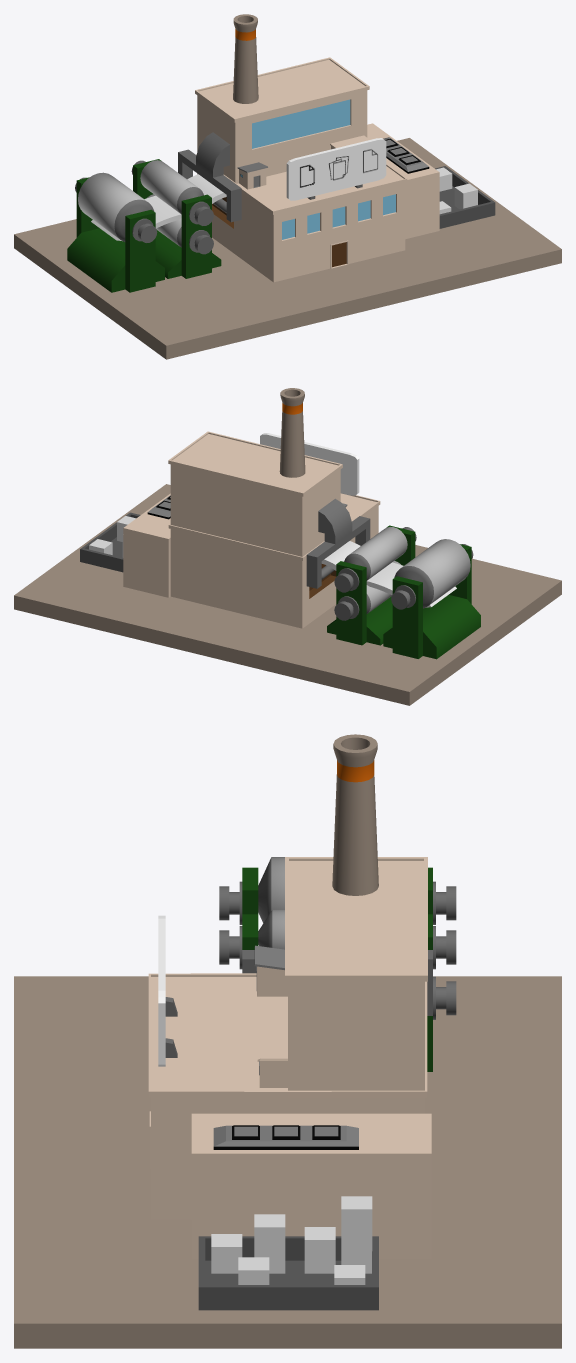
The model's file is Printing Press.fbx.
3 renders of one model, top to bottom at view 1: azimuth 30°, elevation 25°; view 2: azimuth 150°, elevation 25°; view 3: azimuth 270°, elevation 25°, orthographic. The views are drawn at different scales.
Parts seen in each view (by area): view 1: base.009, main building.007, P machine a, P machine b, sigh, holsr outside, chimney.002, papper place, big papper, papper, air vent, exit.001; view 2: main building.007, base.009, P machine a, P machine b, holsr outside, chimney.002, sigh, big papper, papper place, papper; view 3: base.009, main building.007, papper place, papper, chimney.002, P machine b, P machine a, air vent, air pump, exit.001, sigh.
Part boxes in pixels (<box>): base.009: <box>14,138,561,359</box>; main building.007: <box>195,57,439,282</box>; P machine a: <box>67,172,164,292</box>; P machine b: <box>131,159,221,278</box>; sigh: <box>286,138,386,200</box>; holsr outside: <box>178,132,241,222</box>; chimney.002: <box>233,14,258,103</box>; papper place: <box>435,166,495,228</box>; big papper: <box>91,174,226,241</box>; papper: <box>436,167,477,214</box>; air vent: <box>383,137,429,173</box>; exit.001: <box>237,162,267,189</box>; main building.007: <box>123,431,380,628</box>; base.009: <box>14,484,561,705</box>; P machine a: <box>383,539,480,659</box>; P machine b: <box>327,525,416,645</box>; holsr outside: <box>306,498,370,588</box>; chimney.002: <box>279,388,305,477</box>; sigh: <box>260,433,359,495</box>; big papper: <box>321,541,456,607</box>; papper place: <box>80,512,140,572</box>; papper: <box>89,516,135,557</box>; base.009: <box>14,976,561,1348</box>; main building.007: <box>148,857,431,1259</box>; papper place: <box>198,1236,378,1310</box>; papper: <box>211,1196,372,1284</box>; chimney.002: <box>332,734,378,895</box>; P machine b: <box>219,909,456,1071</box>; P machine a: <box>219,857,456,924</box>; air vent: <box>213,1125,358,1149</box>; air pump: <box>257,1028,287,1087</box>; exit.001: <box>254,945,287,996</box>; sigh: <box>158,915,165,1066</box>.
Size of the model in its own units: 836 by 461 by 558.
Materials: 13 (1 with a texture image).
